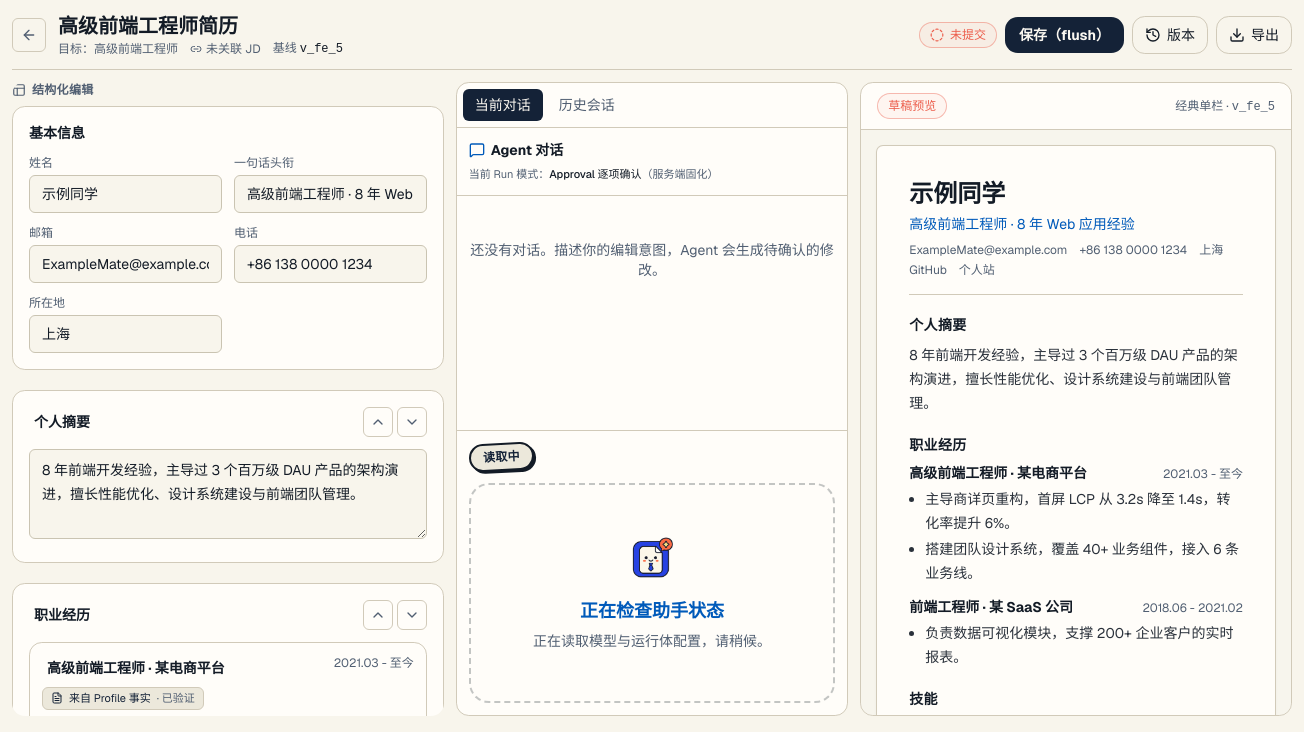
Test: 简历编辑器：手动保存 › 网络失败时给可理解文案并保持可重试
The width and height of the screenshot is (1304, 732).
Click the button "保存（flush）".
click(1064, 34)  # box [1005,16,1124,52]
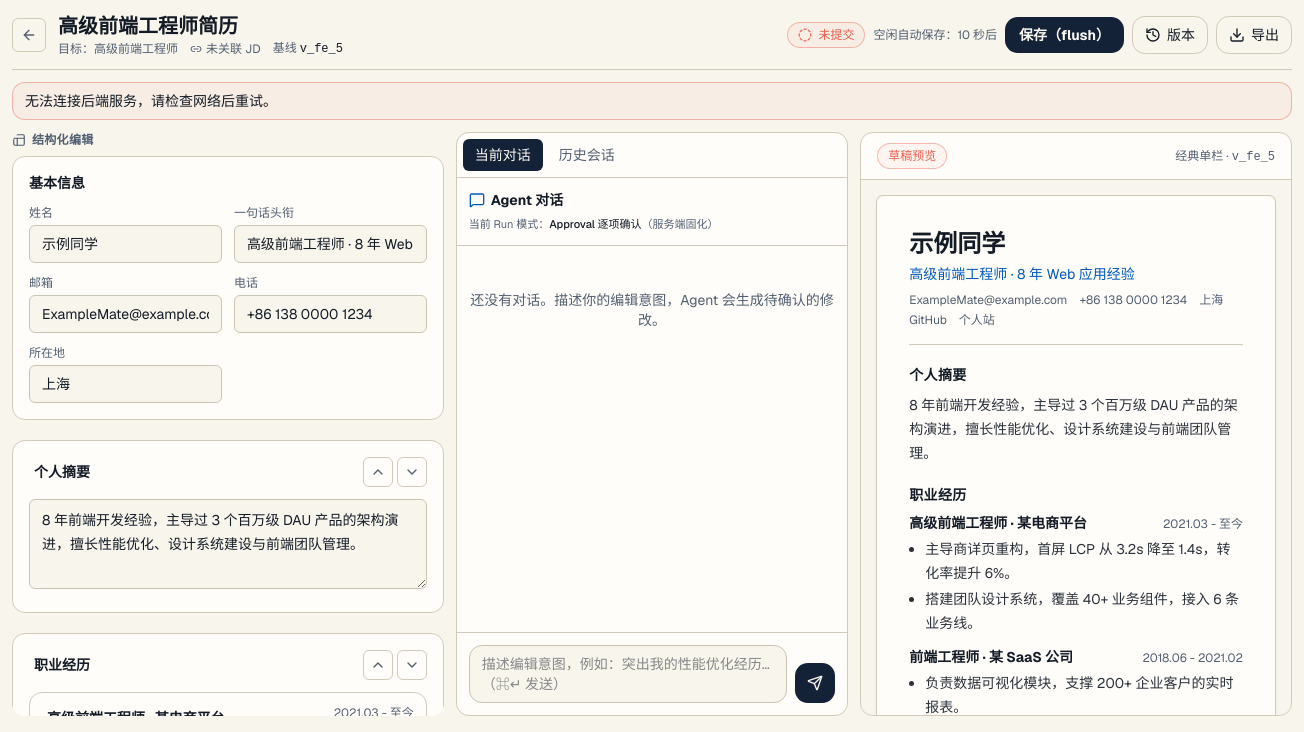
Expected: the message reads "无法连接后端服务，请检查网络后重试。", [25,92,277,110]
